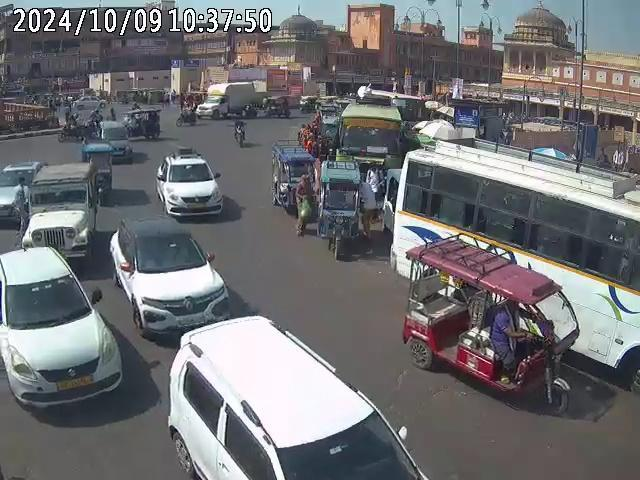auto: (401, 235, 574, 410), (318, 156, 360, 262), (269, 140, 317, 212), (83, 142, 113, 204), (124, 106, 166, 142)
bus: (390, 139, 640, 360), (339, 88, 405, 152)
car: (166, 313, 446, 479), (0, 242, 122, 413), (108, 216, 229, 343), (20, 160, 99, 264), (154, 152, 223, 219), (0, 160, 45, 223), (100, 121, 133, 164)
license_plate: (58, 374, 96, 390)
lorry: (194, 82, 254, 125)
person: (295, 172, 319, 236), (297, 122, 315, 152)
